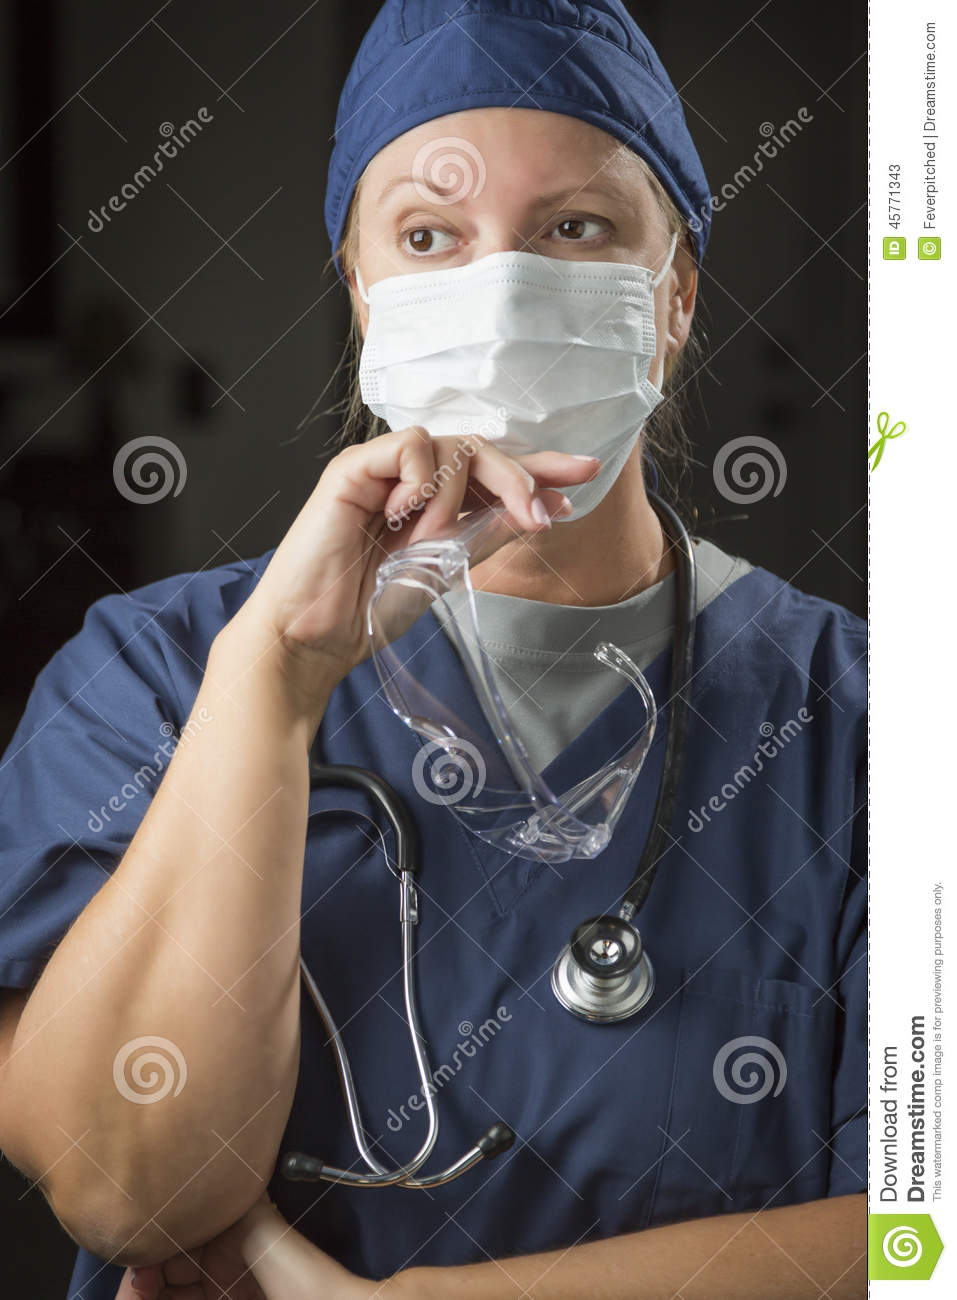mask: (360, 273, 712, 477)
